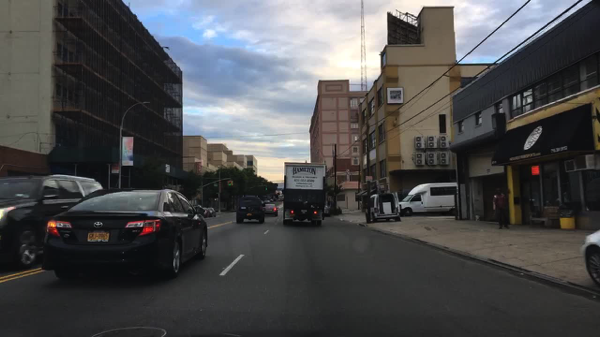car: (39, 186, 208, 282), (0, 173, 103, 271), (399, 181, 457, 214), (365, 191, 400, 222), (235, 194, 266, 225), (265, 202, 279, 216), (194, 205, 207, 217), (323, 202, 330, 218), (208, 208, 217, 218), (277, 194, 283, 201)
person: (489, 188, 510, 229)
traffic light: (228, 179, 233, 186), (265, 185, 268, 191)
truck: (280, 162, 327, 228), (581, 218, 599, 292)
